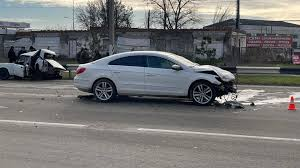Car: (74, 51, 236, 105)
